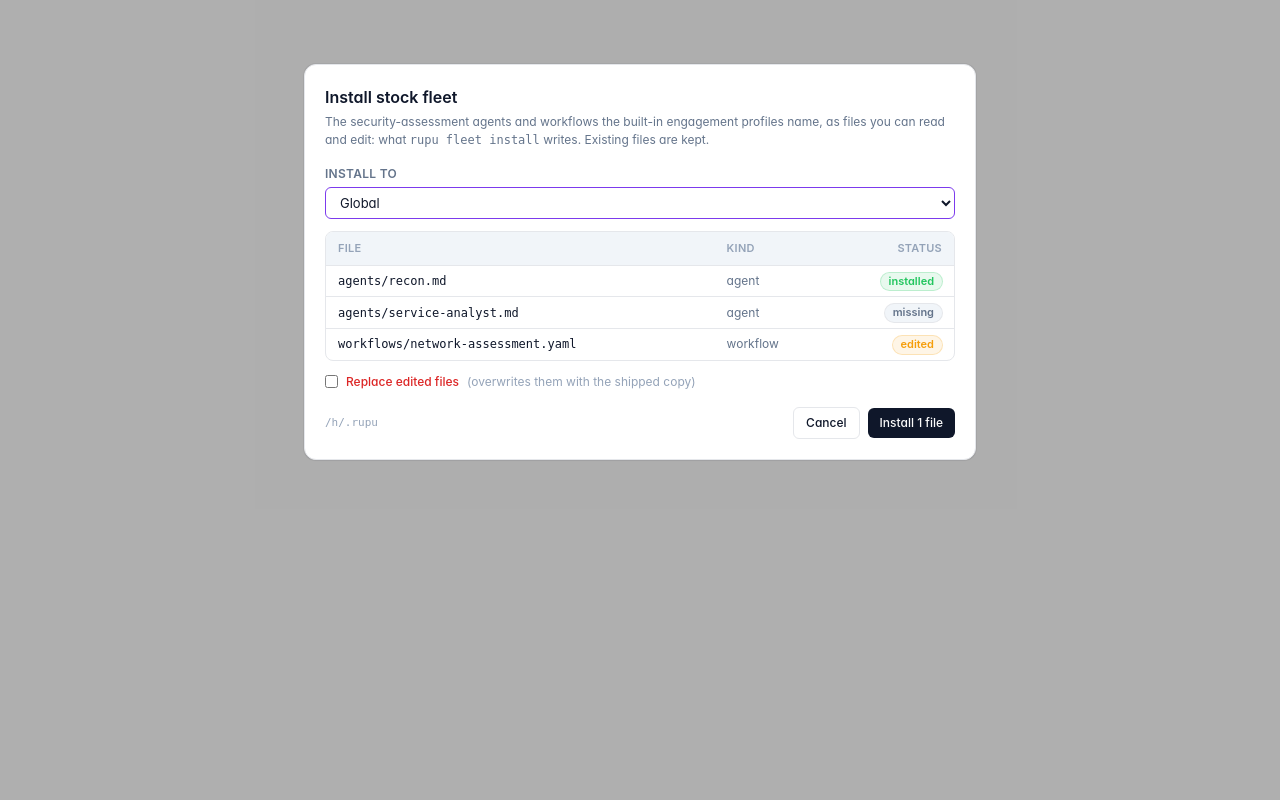
Test: FleetInstallDialog › shows a 409 inline
Click the button "Install 1 file" at (911, 423), box 868,408 -> 955,438
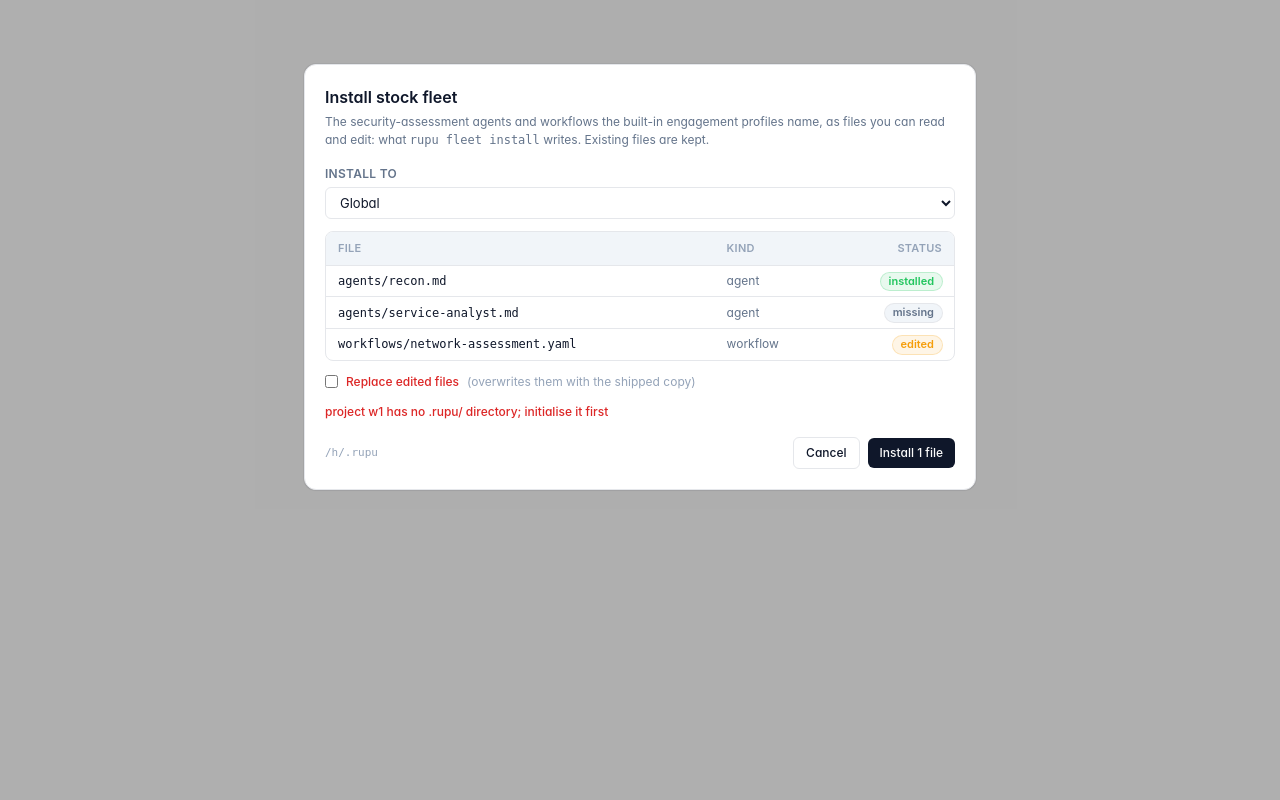
Now the message shows "initialise it first", box 325,404 -> 608,419
